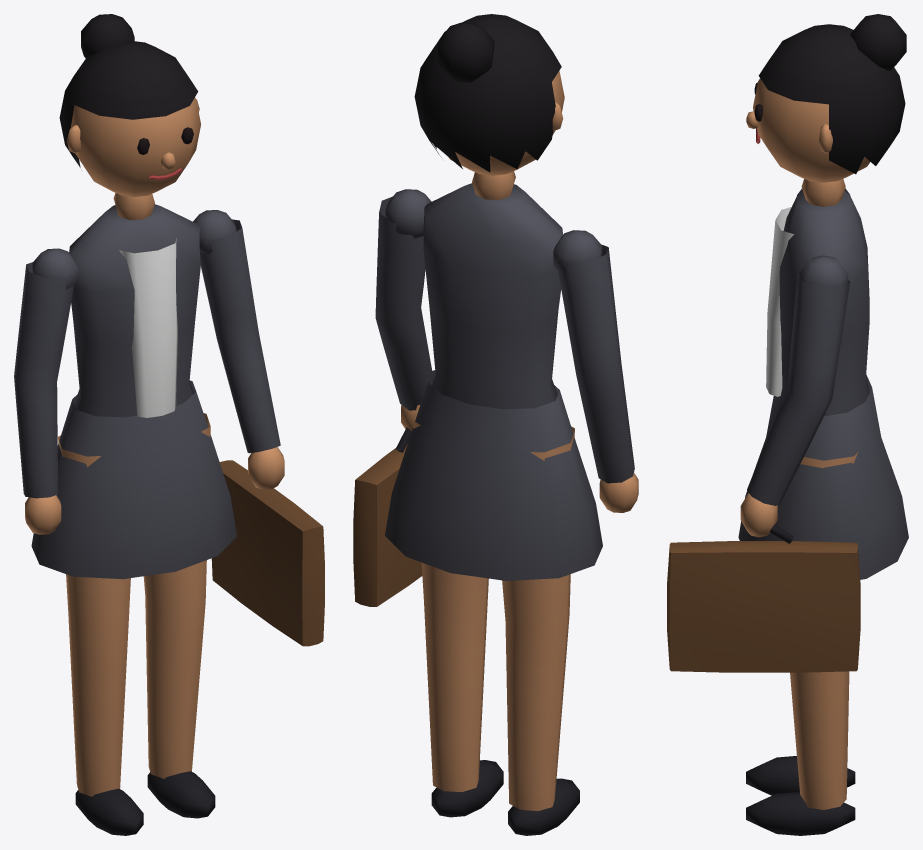
Rendered from Guest_BusinessWoman.obj.
3 views of the same model, side by side, from view 1: azimuth 30°, elevation 25°; view 2: azimuth 150°, elevation 25°; view 3: azimuth 270°, elevation 25° (orthographic). The views are drawn at different scales.
Visible parts, largest first — view 1: Torso, Head, LegR, LegL, Prop, ArmR, ArmL; view 2: Torso, Head, LegR, LegL, ArmR, ArmL, Prop; view 3: Torso, Prop, Head, ArmL, LegL, LegR.
Boxes of the visible parts, x1=… form: Torso: x1=31, y1=193, x2=237, y2=579; Head: x1=59, y1=14, x2=200, y2=196; LegR: x1=58, y1=435, x2=143, y2=835; LegL: x1=143, y1=413, x2=215, y2=818; Prop: x1=211, y1=460, x2=324, y2=646; ArmR: x1=14, y1=248, x2=78, y2=534; ArmL: x1=193, y1=210, x2=284, y2=489; Torso: x1=385, y1=171, x2=602, y2=580; Head: x1=414, y1=14, x2=564, y2=175; LegR: x1=502, y1=426, x2=579, y2=835; LegL: x1=413, y1=405, x2=503, y2=817; ArmR: x1=553, y1=230, x2=638, y2=512; ArmL: x1=375, y1=189, x2=432, y2=430; Prop: x1=353, y1=427, x2=422, y2=606; Torso: x1=738, y1=179, x2=908, y2=579; Prop: x1=667, y1=525, x2=860, y2=672; Head: x1=746, y1=14, x2=906, y2=182; ArmL: x1=740, y1=255, x2=850, y2=537; LegL: x1=746, y1=452, x2=858, y2=835; LegR: x1=746, y1=756, x2=855, y2=795.
Bounding box in the file's own units: 0.5909 × 1.83 × 0.5014.
Materials: 1 (1 with a texture image).
